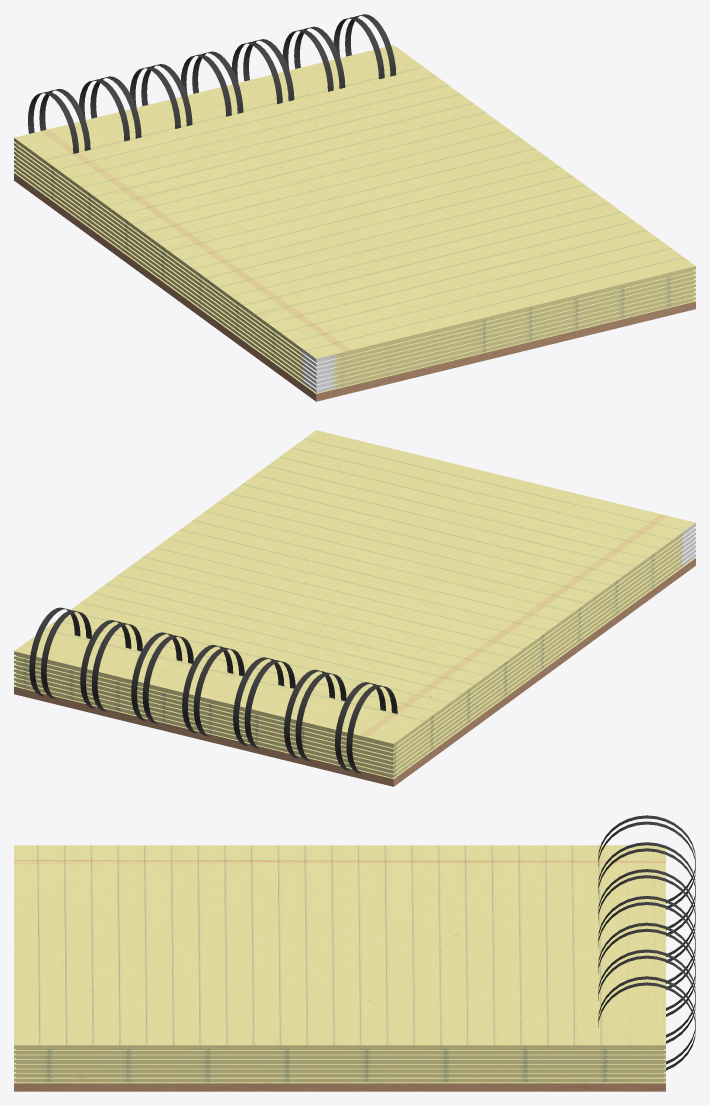
The model's file is notepad.glb.
3 views of the same model, one above another, from view 1: azimuth 30°, elevation 25°; view 2: azimuth 150°, elevation 25°; view 3: azimuth 270°, elevation 25° (orthographic). The views are drawn at different scales.
Parts seen in each view (by area): view 1: notepad; view 2: notepad; view 3: notepad.
Boxes of the visible parts, x1=… form: notepad: x1=14, y1=14, x2=695, y2=401; notepad: x1=14, y1=430, x2=695, y2=786; notepad: x1=14, y1=815, x2=695, y2=1091.
Bounding box in the file's own units: 9.65 × 2.04 × 13.91.
3 materials, 2 textured.
